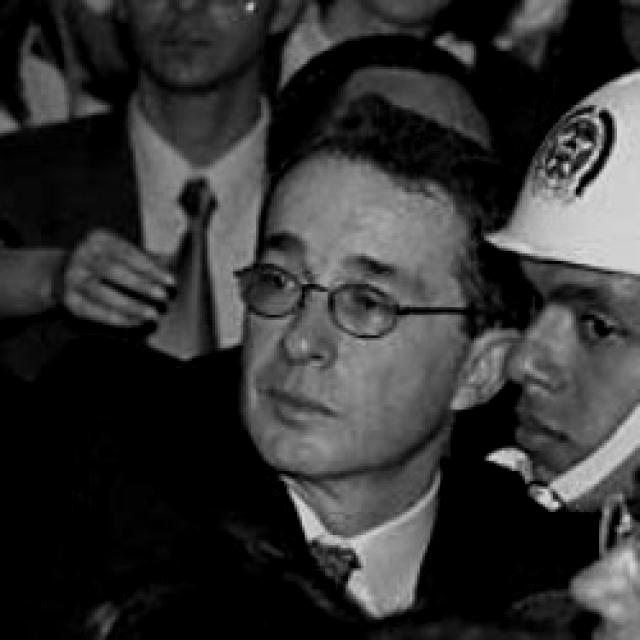real: (240, 157, 465, 477), (516, 256, 640, 516), (257, 252, 403, 335), (531, 285, 627, 350)
